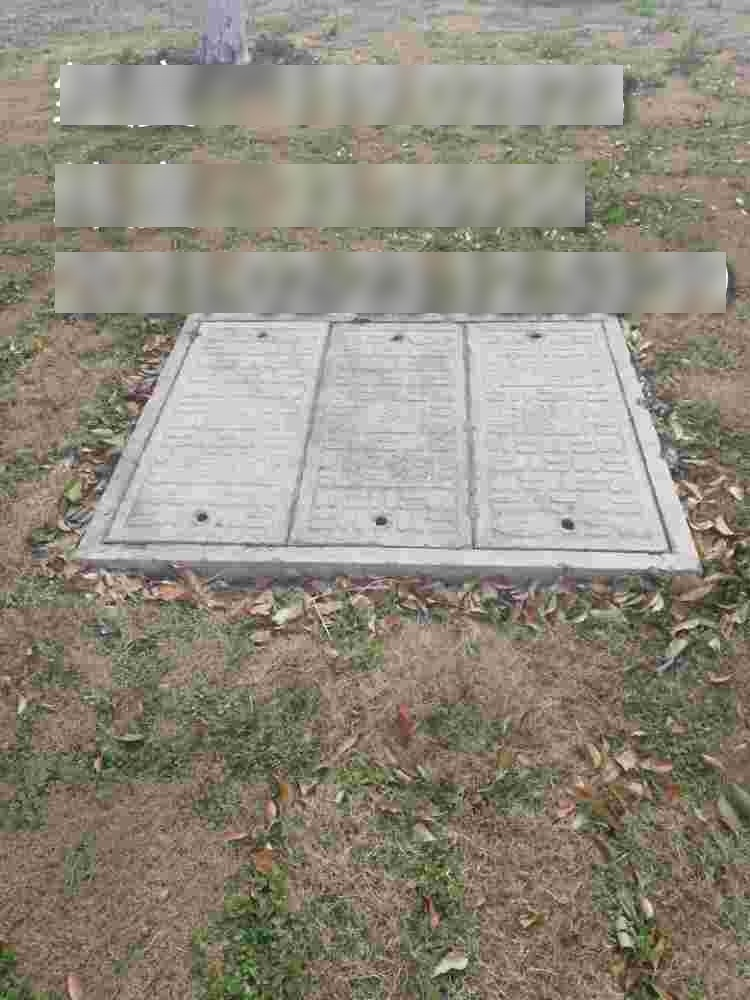good: (72, 310, 705, 579)
